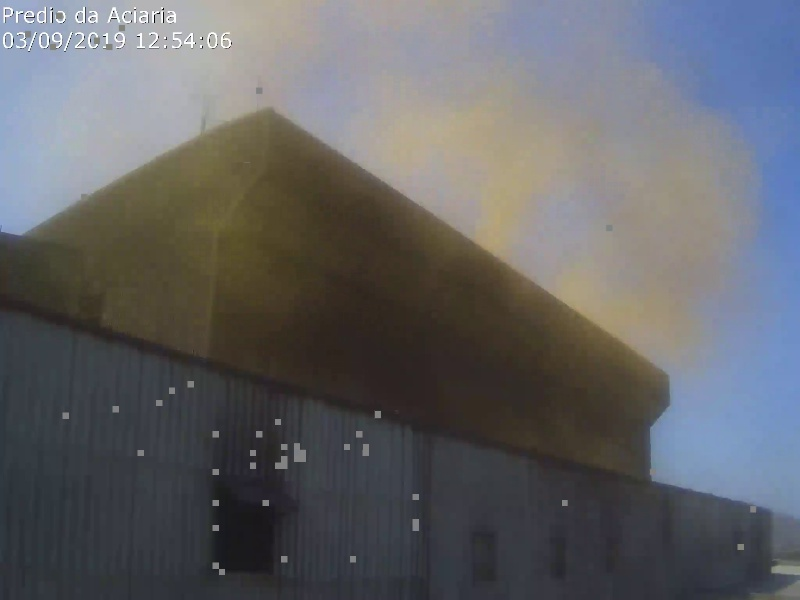Pessimo: (121, 10, 663, 362)
